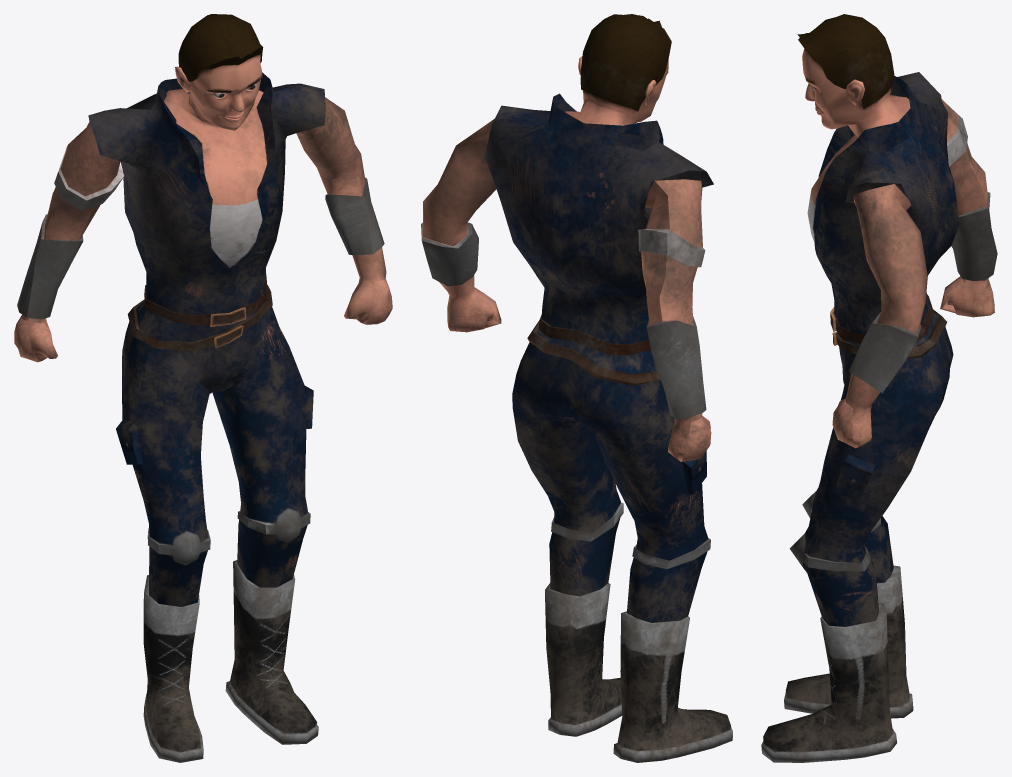
File: Anim_recibirdanyo_jugador.0025.obj
3 renders of one model, left to right at view 1: azimuth 30°, elevation 25°; view 2: azimuth 150°, elevation 25°; view 3: azimuth 270°, elevation 25°, orthographic.
Parts seen in each view (by area): view 1: polySurface1; view 2: polySurface1; view 3: polySurface1.
Boxes of the visible parts, box(x1,y1,x2,y2) form: polySurface1: box(14, 14, 392, 762); polySurface1: box(421, 14, 732, 762); polySurface1: box(761, 14, 997, 762).
Bounding box in the file's own units: 4.42 × 9.45 × 2.83.
